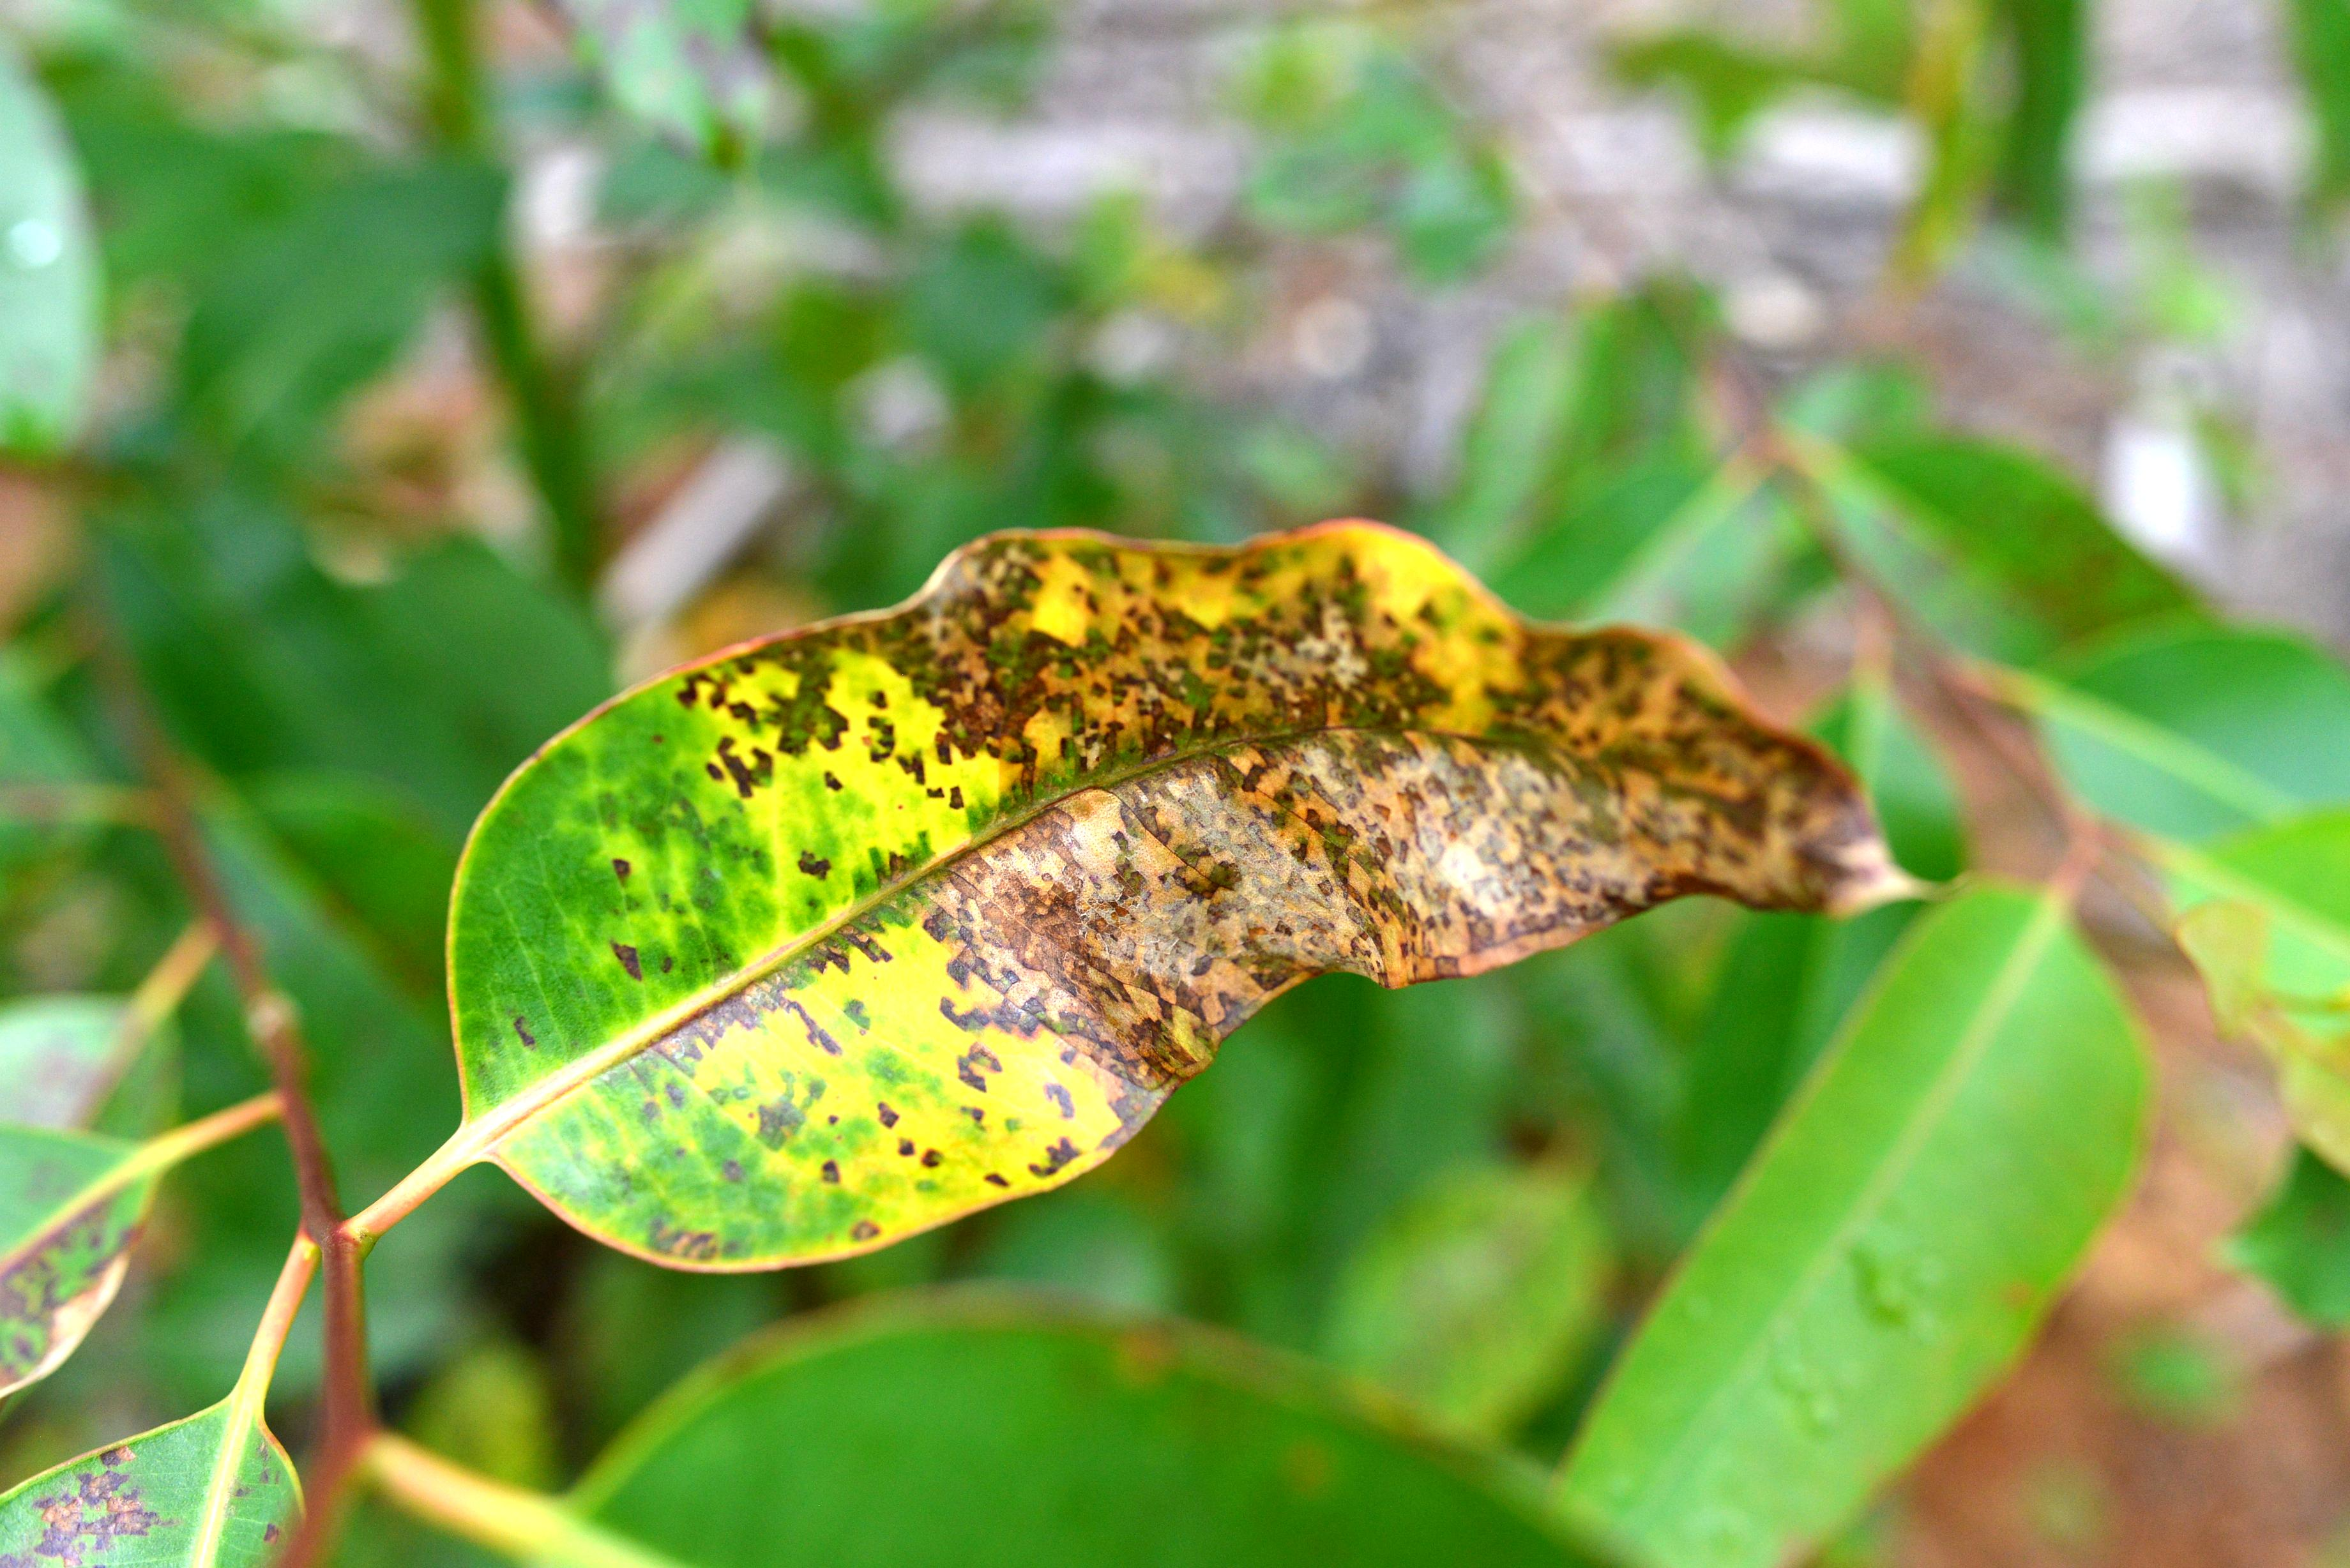Xanthomonas: (712, 633, 1769, 1067)
